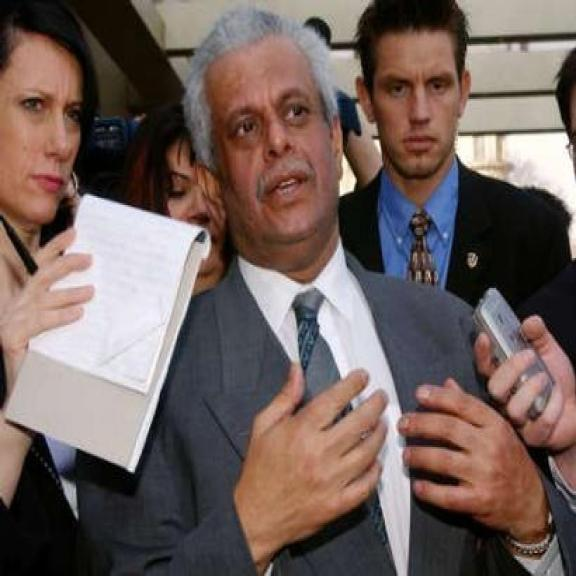face: (212, 42, 348, 254), (354, 41, 470, 181), (5, 34, 80, 230), (152, 144, 231, 278)
